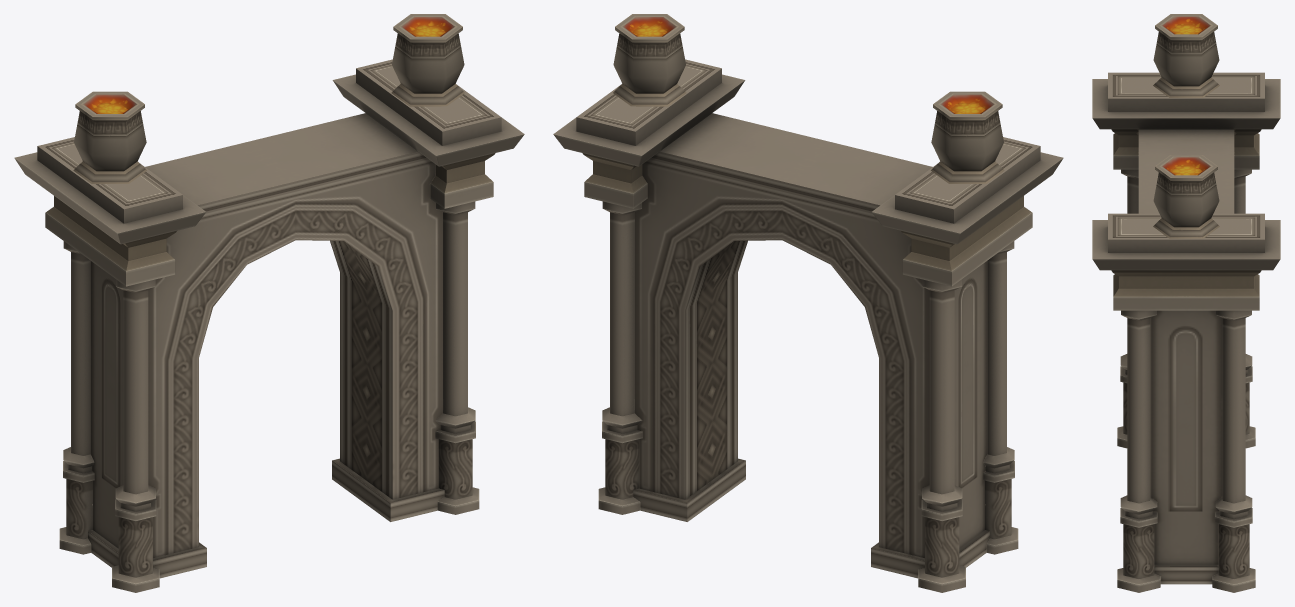
File: Portal_02.FBX
The picture shows the model from 3 angles, left to right: view 1: azimuth 30°, elevation 25°; view 2: azimuth 150°, elevation 25°; view 3: azimuth 270°, elevation 25°; orthographic projection. The views are drawn at different scales.
Visible parts, largest first — view 1: Portal_02; view 2: Portal_02; view 3: Portal_02.
Part boxes in pixels (x1=…): Portal_02: x1=14, y1=14, x2=524, y2=592; Portal_02: x1=553, y1=14, x2=1063, y2=592; Portal_02: x1=1092, y1=14, x2=1280, y2=592.
Bounding box in the file's own units: 121 × 130 × 53.14.
